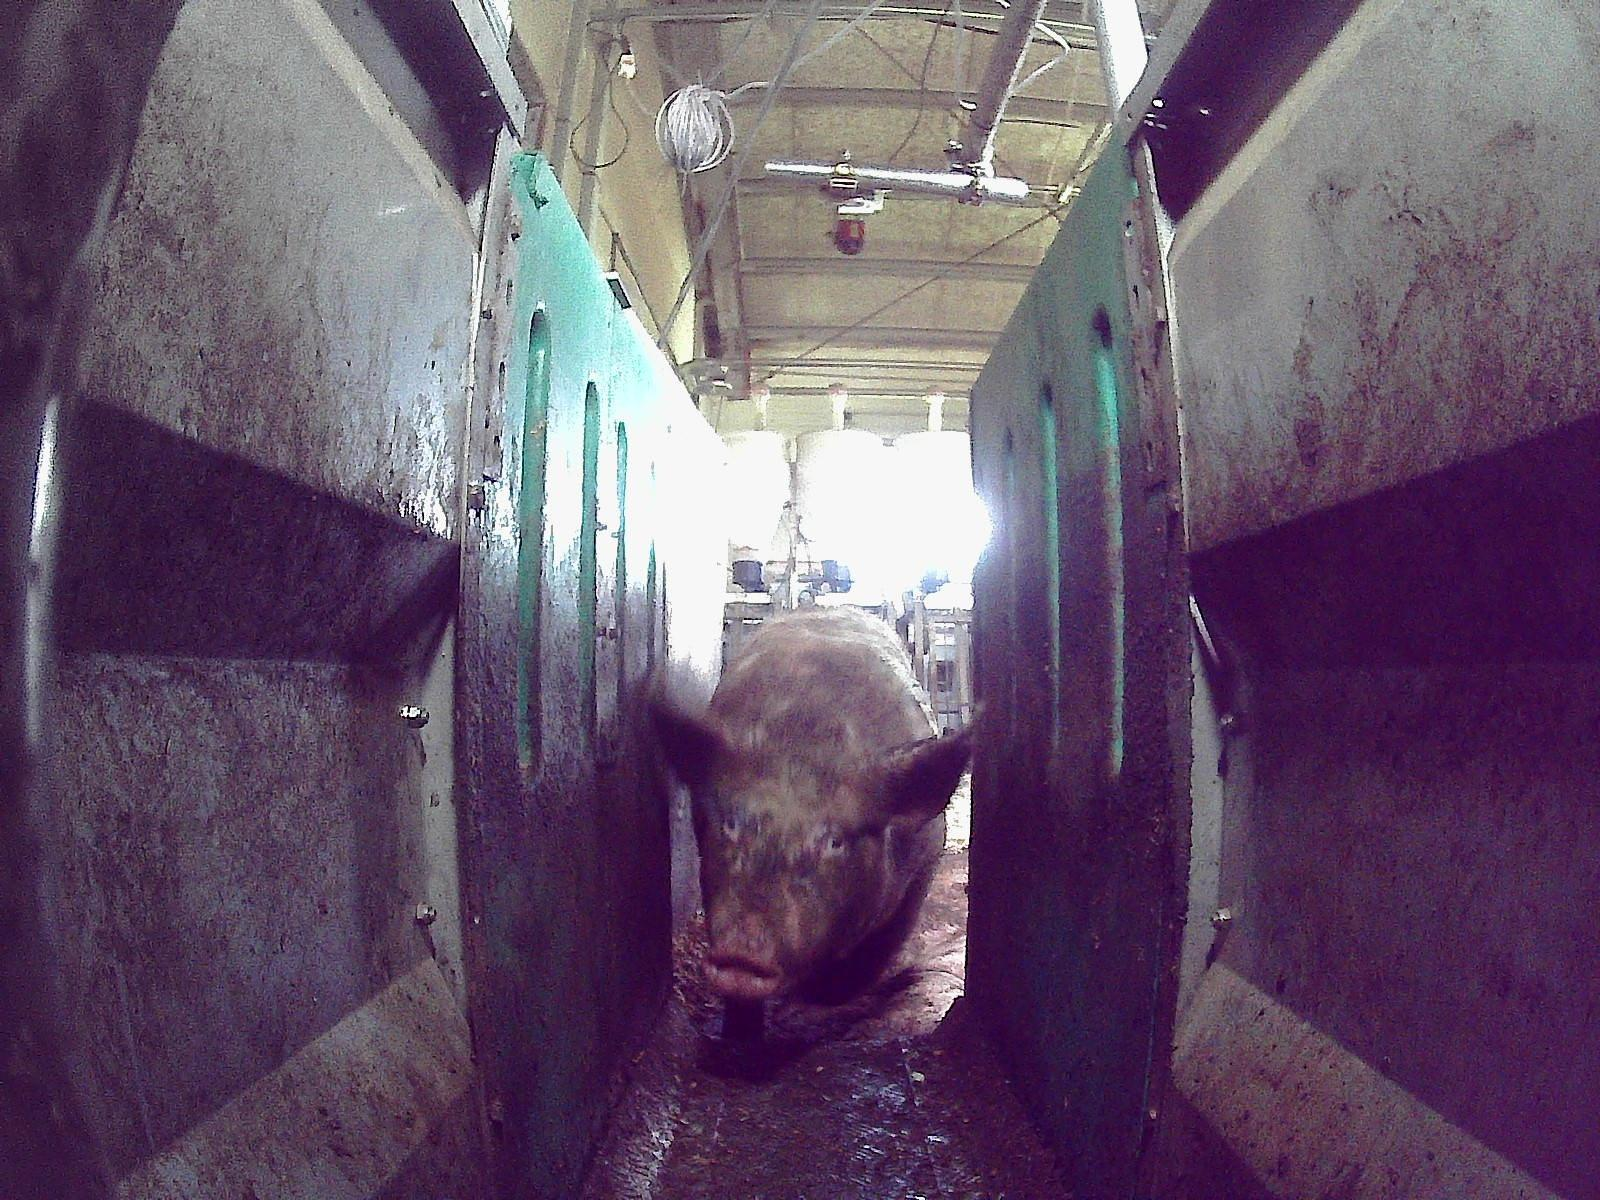Face: (685, 754, 880, 999)
